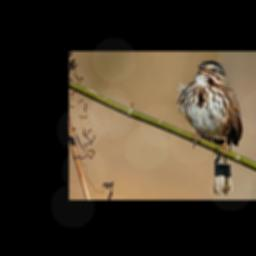Sparrow: (174, 59, 243, 195)
